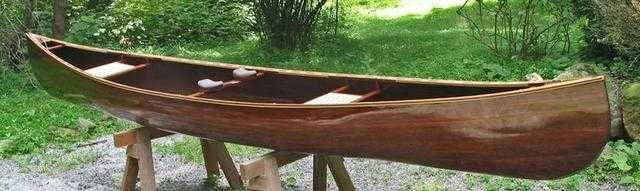kayak: (22, 36, 623, 190)
